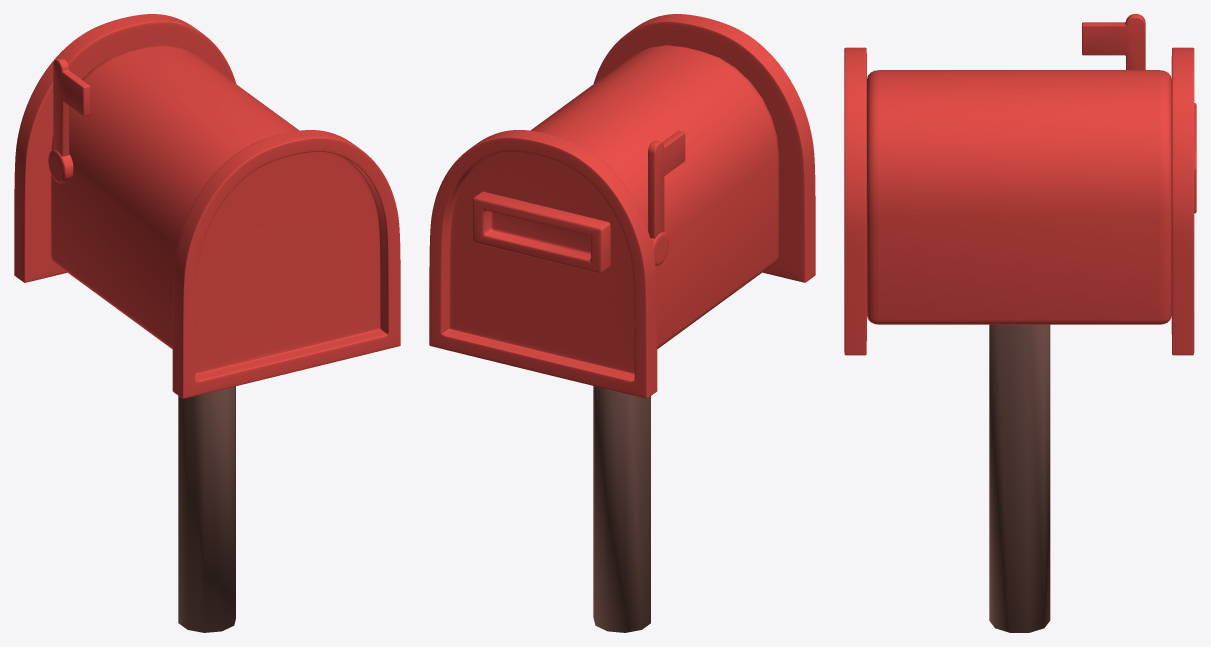
File: Mailbox.glb
The picture shows the model from 3 angles, left to right: view 1: azimuth 30°, elevation 25°; view 2: azimuth 150°, elevation 25°; view 3: azimuth 270°, elevation 25°; orthographic projection. The views are drawn at different scales.
Visible parts, largest first — view 1: Cylinder.262; view 2: Cylinder.262; view 3: Cylinder.262.
Boxes of the visible parts, left/top/right/bottom form: Cylinder.262: left=14, top=14, right=400, bottom=632; Cylinder.262: left=429, top=14, right=815, bottom=632; Cylinder.262: left=844, top=14, right=1196, bottom=632.
Size of the model in its own units: 1.71 by 4.06 by 2.31.
